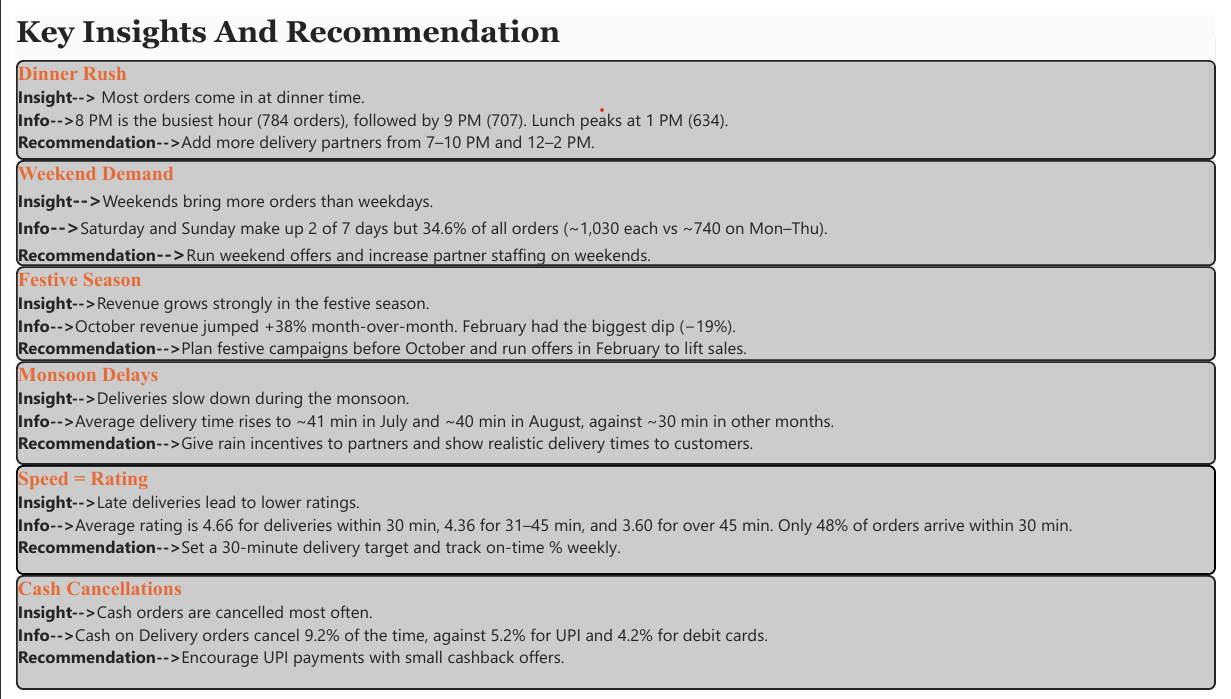

Layout of this report page (visuals, bound fields, positions):
{"tool":"powerbi","page":{"name":"Insight & Reccomendation","canvas":[1920,1080],"ordinal":4},"visuals":[{"type":"textbox","box":[0,0,884.9,72.4],"z":0},{"type":"textbox","box":[0,72.4,1920.1,159.3],"z":1},{"type":"textbox","box":[0,553.8,1920.1,166.5],"z":2},{"type":"textbox","box":[0,401.7,1920.1,152],"z":3},{"type":"textbox","box":[0,231.6,1920.1,170.1],"z":4},{"type":"textbox","box":[0,720.2,1920.1,175.5],"z":5},{"type":"textbox","box":[0,895.8,1920.1,184.6],"z":6}]}

Visuals, with their boxes in screenshot pixels (x1, y1, x2, y2), scaled from the page's 1920x1080 canvas onto the 1231x699 screenshot:
textbox: Rect(0, 0, 567, 47)
textbox: Rect(0, 47, 1230, 150)
textbox: Rect(0, 358, 1230, 466)
textbox: Rect(0, 260, 1230, 358)
textbox: Rect(0, 150, 1230, 260)
textbox: Rect(0, 466, 1230, 580)
textbox: Rect(0, 580, 1230, 698)
